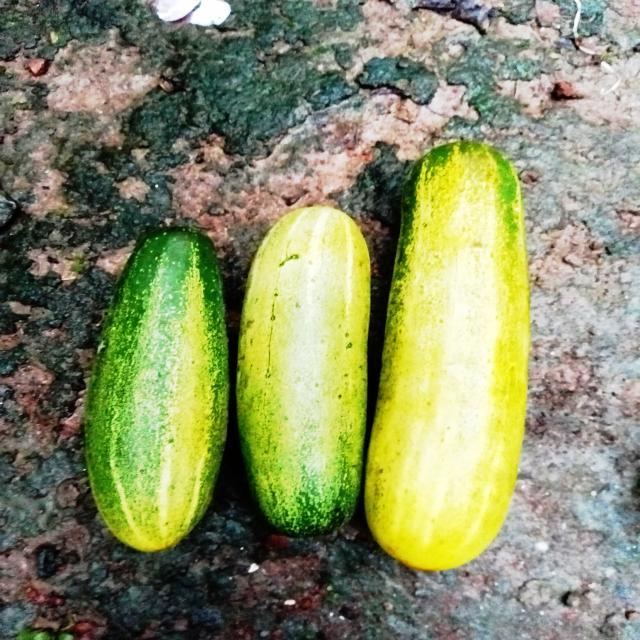Fresh-Cucumber: (361, 136, 532, 575), (85, 221, 232, 555), (237, 200, 375, 543)
